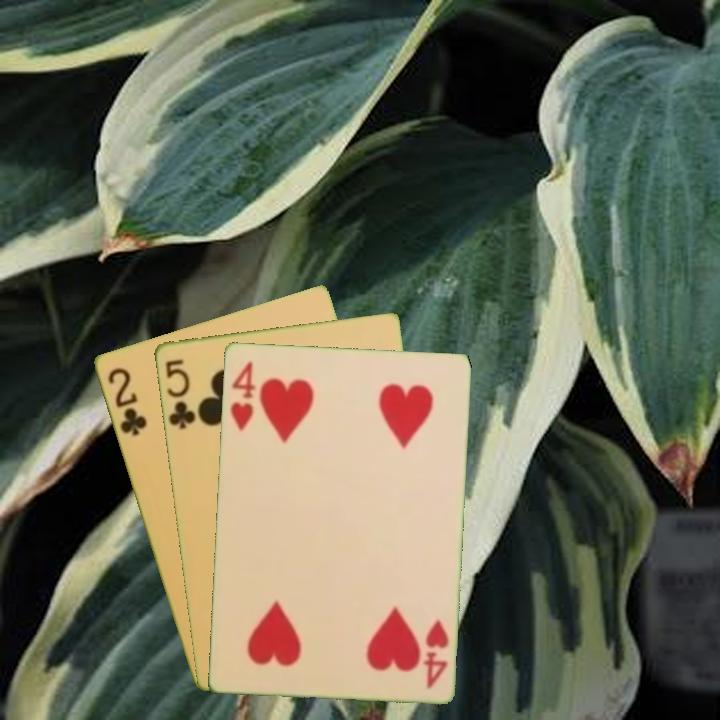2c: (104, 364, 150, 439)
4h: (226, 356, 258, 433), (419, 615, 451, 692)
5c: (161, 355, 198, 431)
